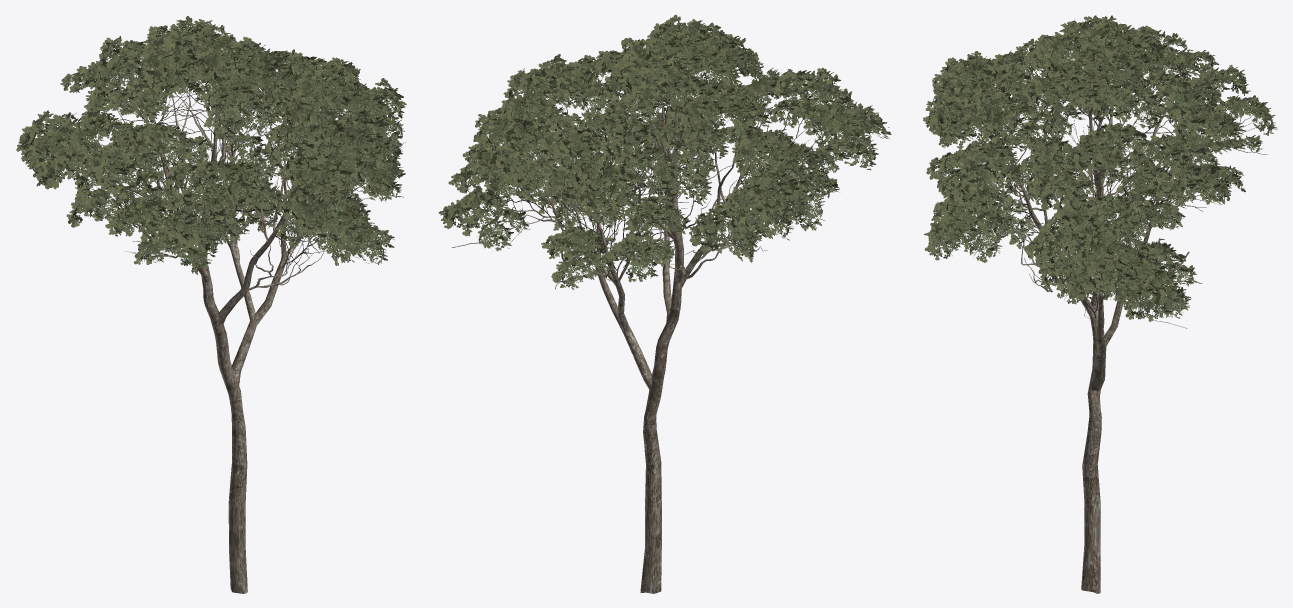
The model's file is jungle_tree.glb.
The picture shows the model from 3 angles, left to right: view 1: azimuth 30°, elevation 25°; view 2: azimuth 150°, elevation 25°; view 3: azimuth 270°, elevation 25°; orthographic projection. The views are drawn at different scales.
Parts seen in each view (by area): view 1: Mesh_LEAFS_0 (×3), Mesh_trunk_0, Mesh_branches_0; view 2: Mesh_LEAFS_0 (×3), Mesh_trunk_0, Mesh_branches_0; view 3: Mesh_LEAFS_0 (×3), Mesh_trunk_0, Mesh_branches_0.
Boxes of the visible parts, x1,y1,x2,y2 form: Mesh_LEAFS_0 (×3): (16,16,406,274); Mesh_trunk_0: (55,58,324,593); Mesh_branches_0: (65,62,383,276); Mesh_LEAFS_0 (×3): (439,14,891,289); Mesh_trunk_0: (518,74,782,593); Mesh_branches_0: (452,67,837,278); Mesh_LEAFS_0 (×3): (923,15,1277,321); Mesh_trunk_0: (976,39,1219,593); Mesh_branches_0: (963,29,1267,328).
Size of the model in its own units: 15.48 by 23.28 by 13.64.
3 materials, 3 textured.
